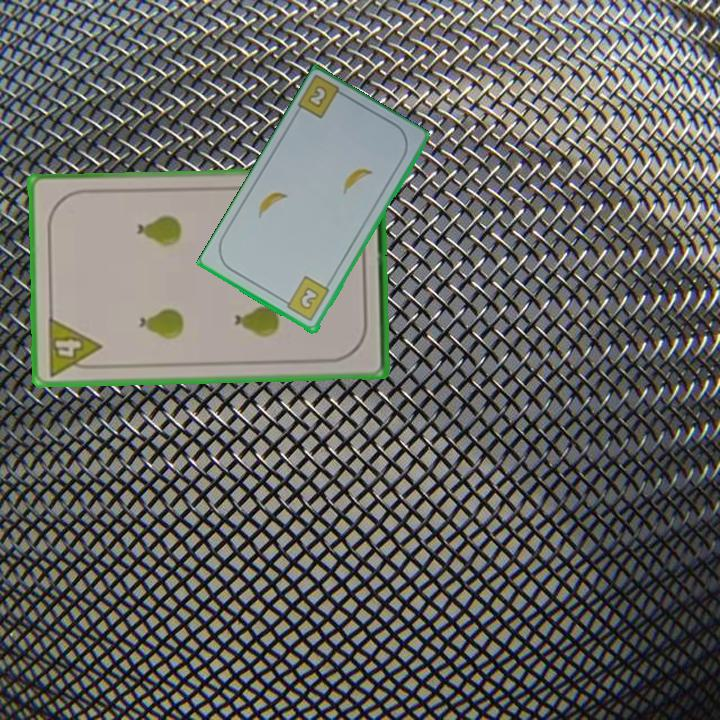2b: (279, 273, 333, 324), (295, 74, 351, 122)
4p: (43, 314, 104, 379)
